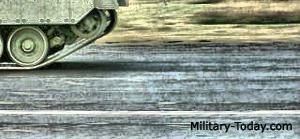tanks: (1, 1, 128, 71)
